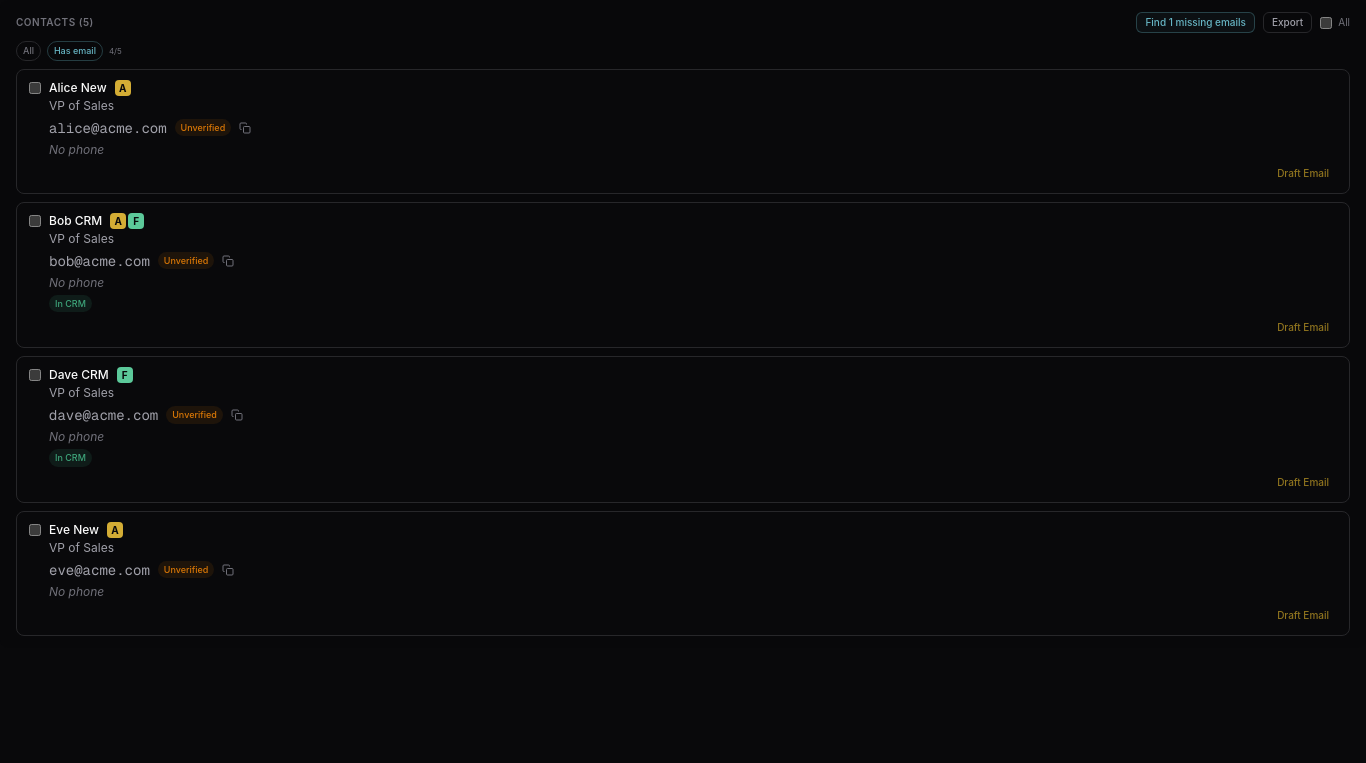
Test: DossierContacts — Source filter & email-only filter › when no filter: shows split sections (New Contacts / Known in Freshsales)
The image size is (1366, 763).
# Turn off email-only filter (ON by default) to see unfiltered sections
Click the button "Has email": (75, 51) x1=47 y1=41 x2=103 y2=60
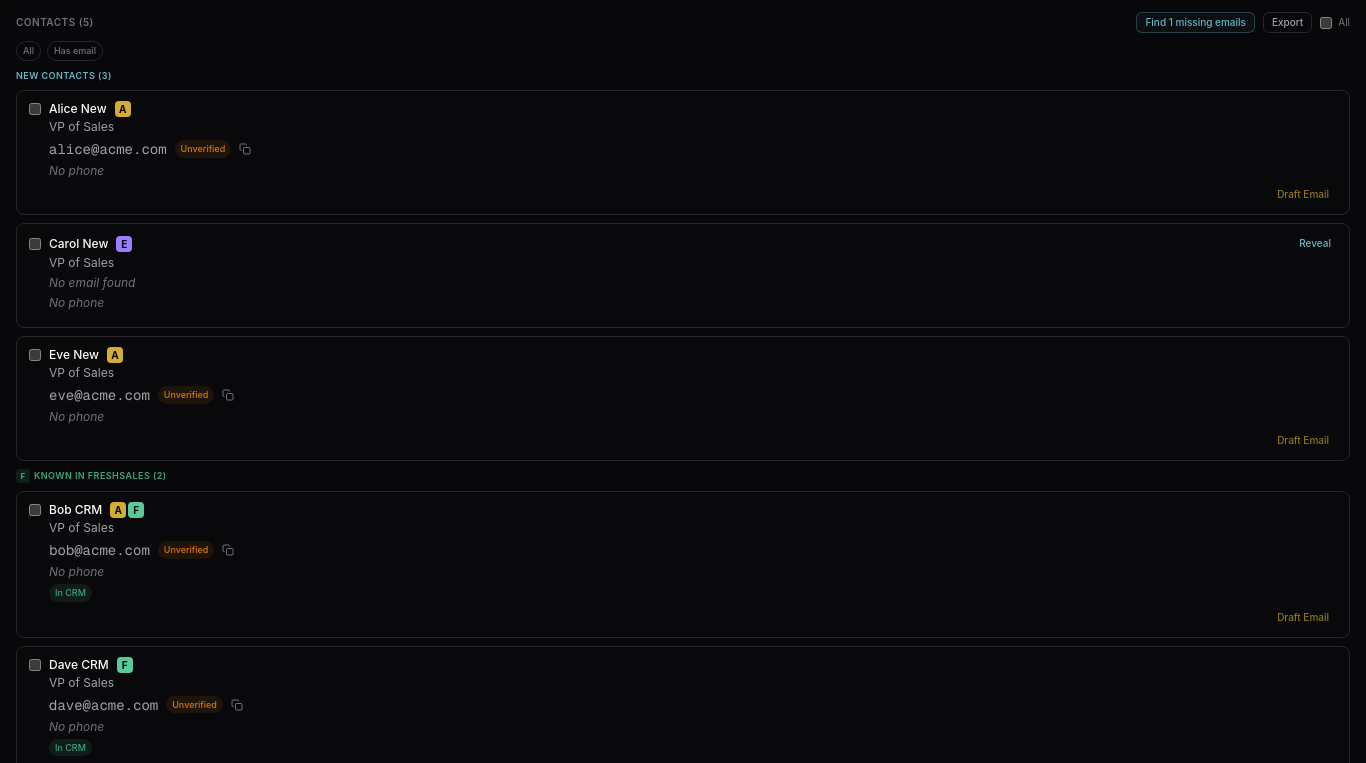
Check: the text "New Contacts (3)" is shown, box x1=16 y1=70 x2=112 y2=80
Check: the text "F Known in Freshsales (2)" is shown, box x1=16 y1=469 x2=167 y2=483
